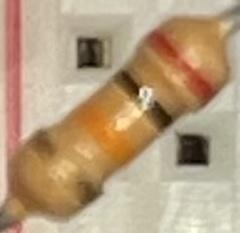Black: (110, 65, 176, 133)
Orange: (69, 99, 139, 170)
Red: (140, 29, 217, 109)
Side-Gold: (23, 128, 104, 213)
